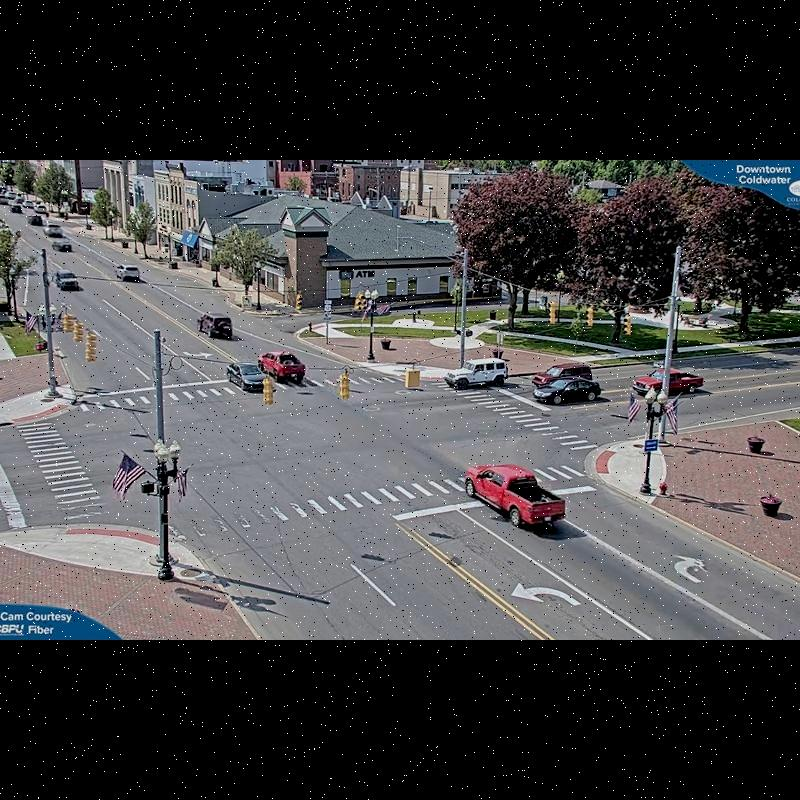car: (466, 460, 568, 531), (447, 358, 509, 390), (536, 378, 602, 408), (635, 368, 704, 396), (256, 346, 306, 384), (532, 364, 593, 388), (224, 360, 268, 392), (197, 313, 234, 341), (55, 270, 80, 292), (116, 264, 140, 284), (52, 238, 74, 254), (43, 222, 64, 238), (7, 204, 25, 216), (27, 215, 44, 227), (34, 203, 48, 214), (0, 191, 8, 204), (23, 200, 34, 208), (0, 187, 6, 195)
